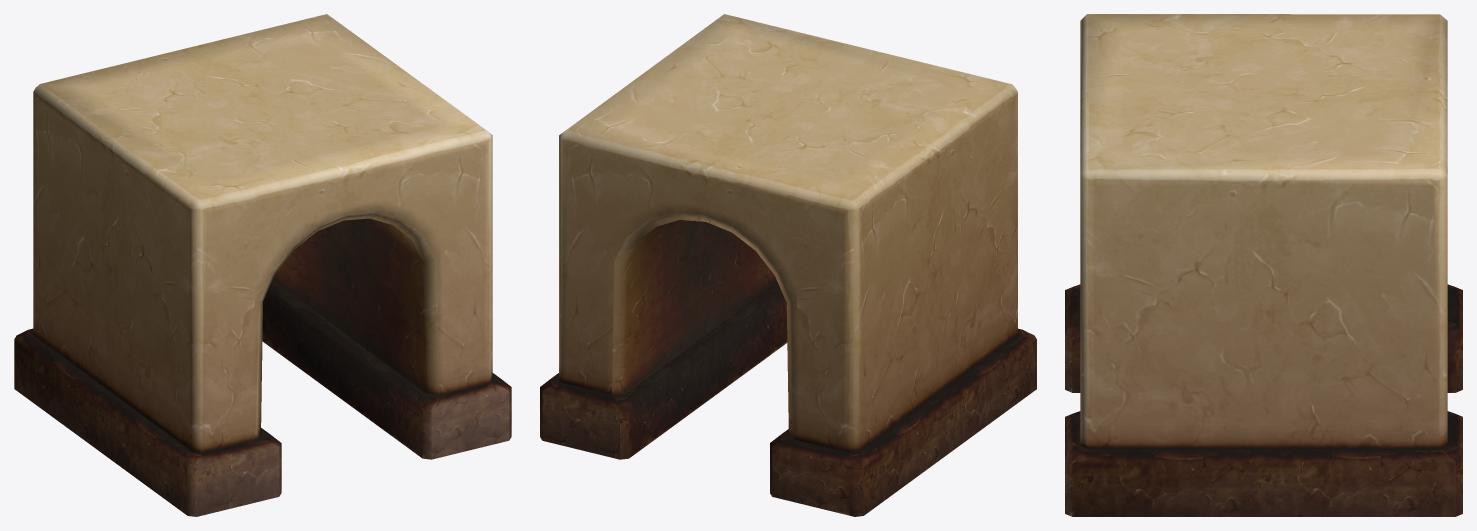
File: DE_House_Mod_Part_51.fbx
The picture shows the model from 3 angles, left to right: view 1: azimuth 30°, elevation 25°; view 2: azimuth 150°, elevation 25°; view 3: azimuth 270°, elevation 25°; orthographic projection. The views are drawn at different scales.
Parts seen in each view (by area): view 1: DE_House_Mod_Part_51; view 2: DE_House_Mod_Part_51; view 3: DE_House_Mod_Part_51.
Boxes of the visible parts, x1,y1,x2,y2 form: DE_House_Mod_Part_51: (14, 14, 511, 516); DE_House_Mod_Part_51: (540, 14, 1036, 516); DE_House_Mod_Part_51: (1065, 14, 1462, 516).
Bounding box in the file's own units: 6.01 × 5.42 × 5.78.
